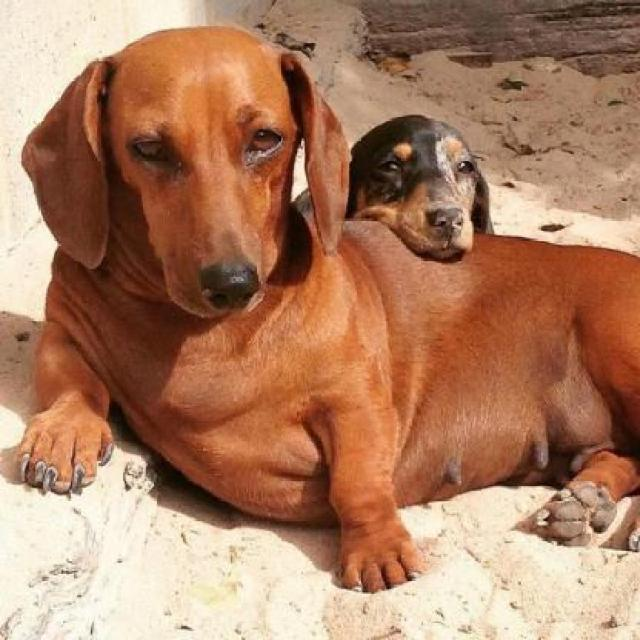Dog: (14, 32, 638, 594)
